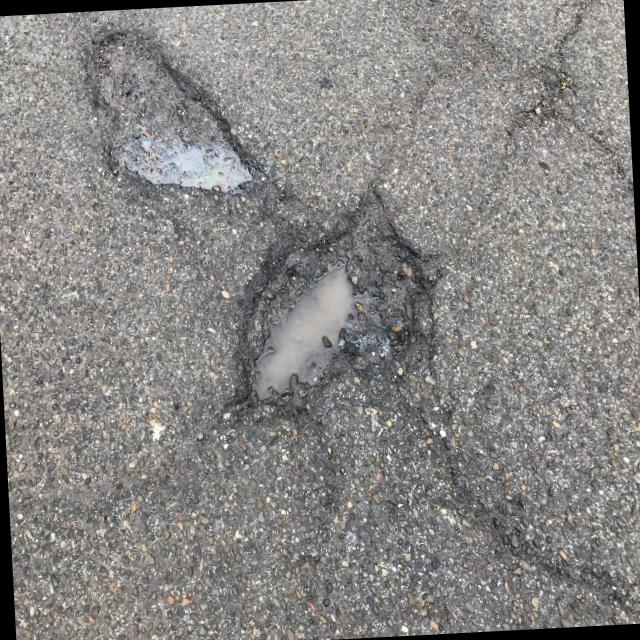Potholes: (206, 176, 449, 432), (68, 14, 270, 218)
